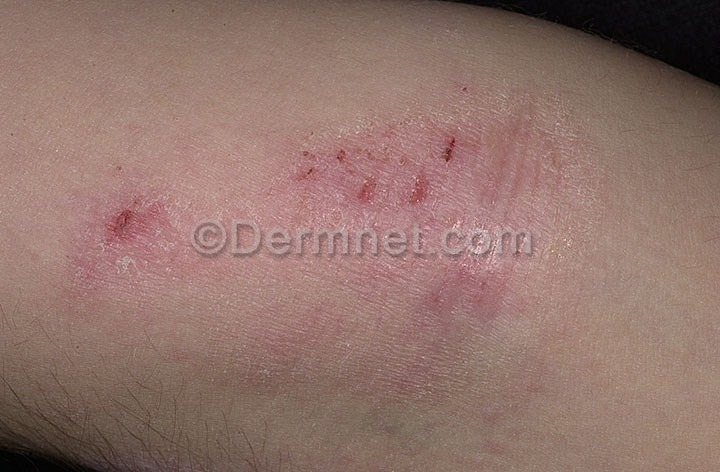Eczema: (56, 78, 620, 412)
